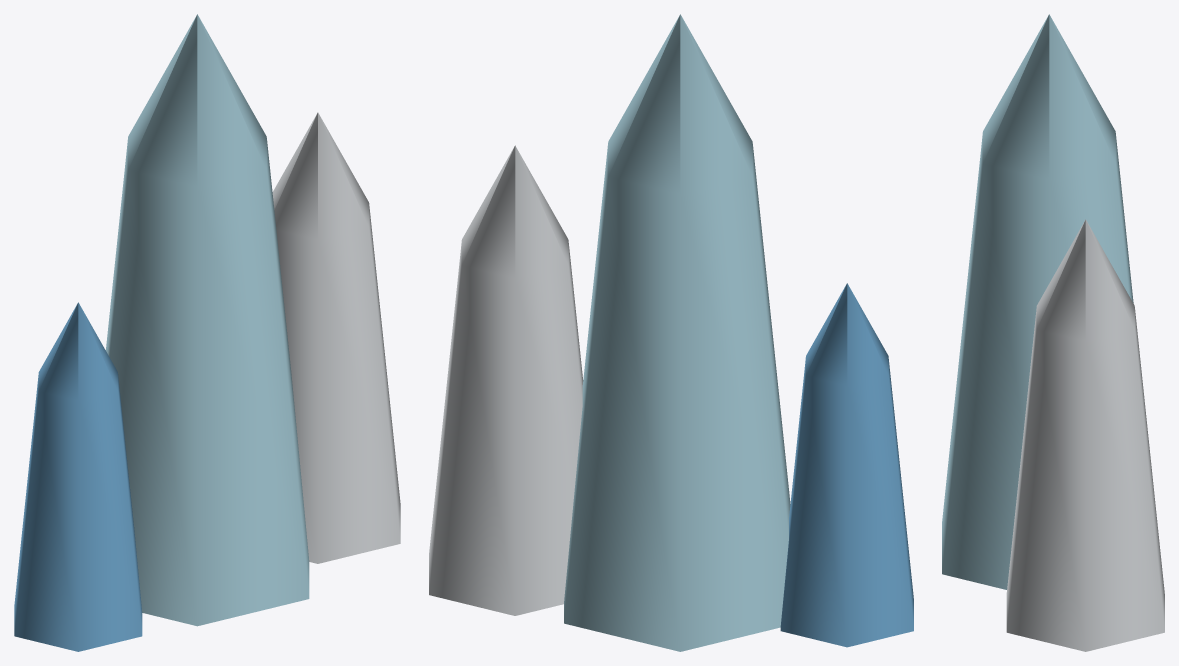
The model's file is st_snow_towers.glb.
The picture shows the model from 3 angles, left to right: view 1: azimuth 30°, elevation 25°; view 2: azimuth 150°, elevation 25°; view 3: azimuth 270°, elevation 25°; orthographic projection. The views are drawn at different scales.
Visible parts, largest first — view 1: Ice_Towers; view 2: Ice_Towers; view 3: Ice_Towers.
Part boxes in pixels (box(x1,y1,x2,y2)): Ice_Towers: box(14, 14, 400, 651); Ice_Towers: box(429, 14, 913, 651); Ice_Towers: box(942, 14, 1164, 651).
Size of the model in its own units: 1.68 by 2.1 by 0.7938.
